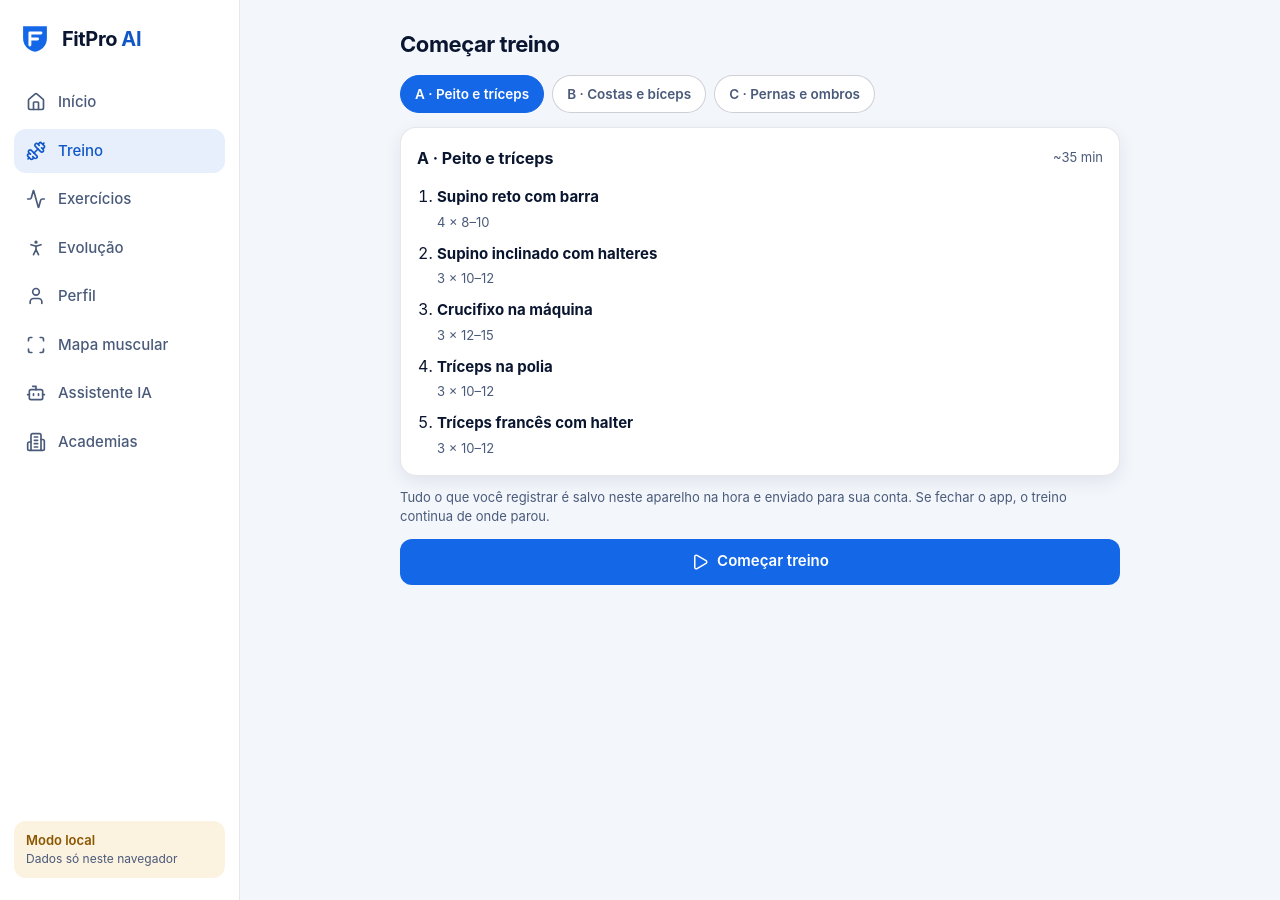
Test: modo treino › encerrar sem séries descarta o treino
The width and height of the screenshot is (1280, 900).
Click the button "Começar treino".
click(760, 562)  # box left=400, top=538, right=1120, bottom=584
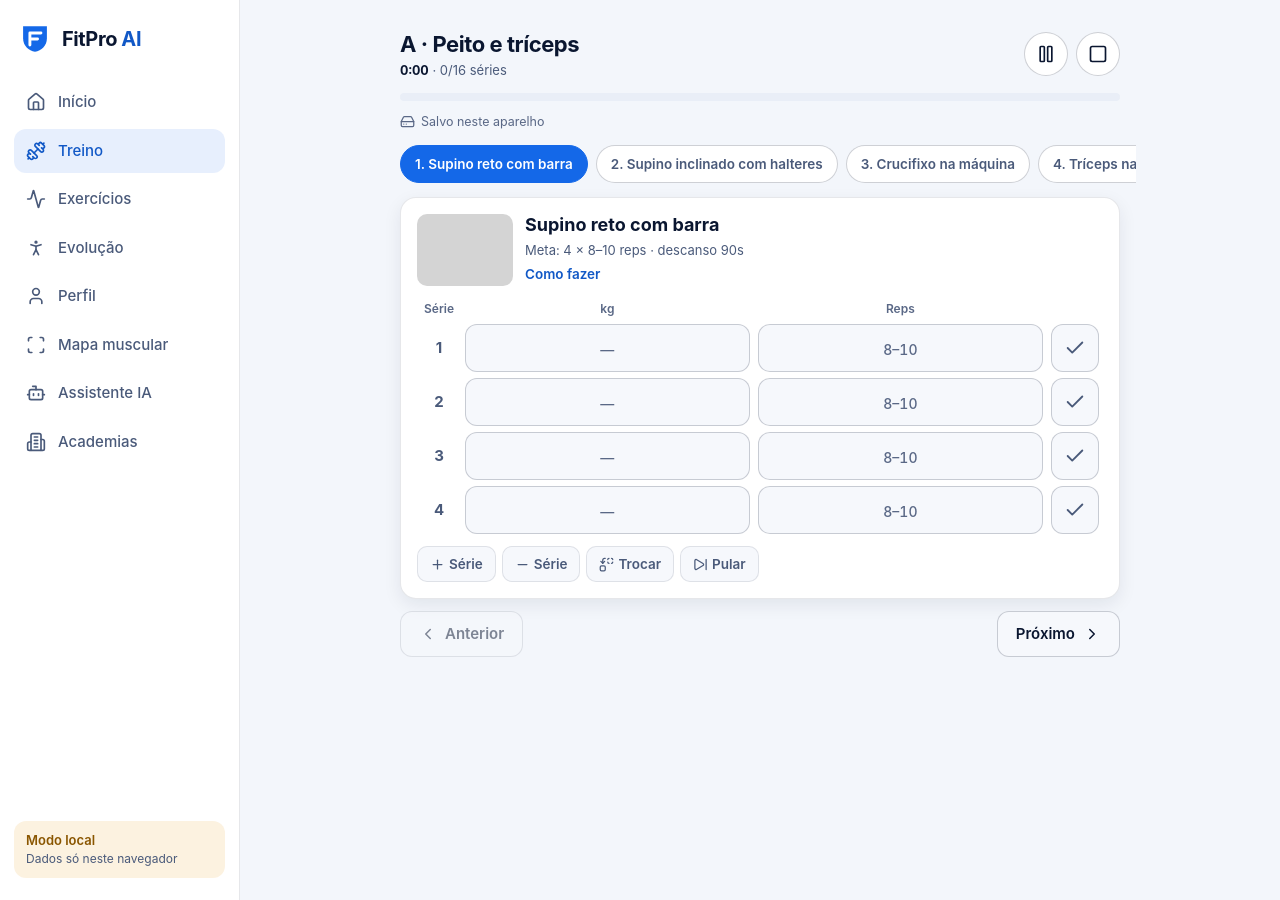
Click the button named "Encerrar treino".
click(1098, 54)  # box left=1076, top=32, right=1120, bottom=76
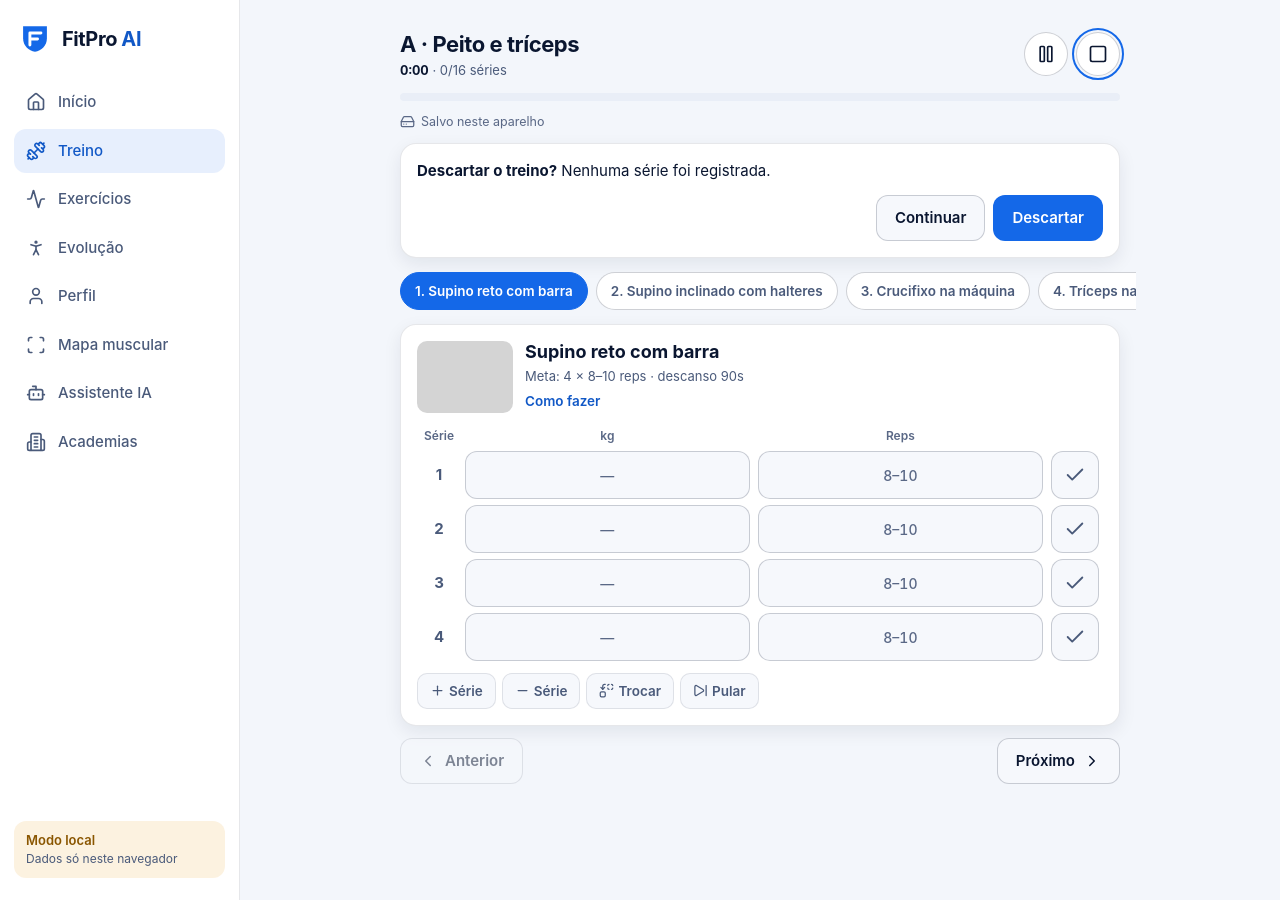
Expected: the text "Descartar o treino?" is shown, left=417, top=161, right=557, bottom=180
Click the button "Descartar".
click(1048, 218)  # box left=993, top=195, right=1103, bottom=241
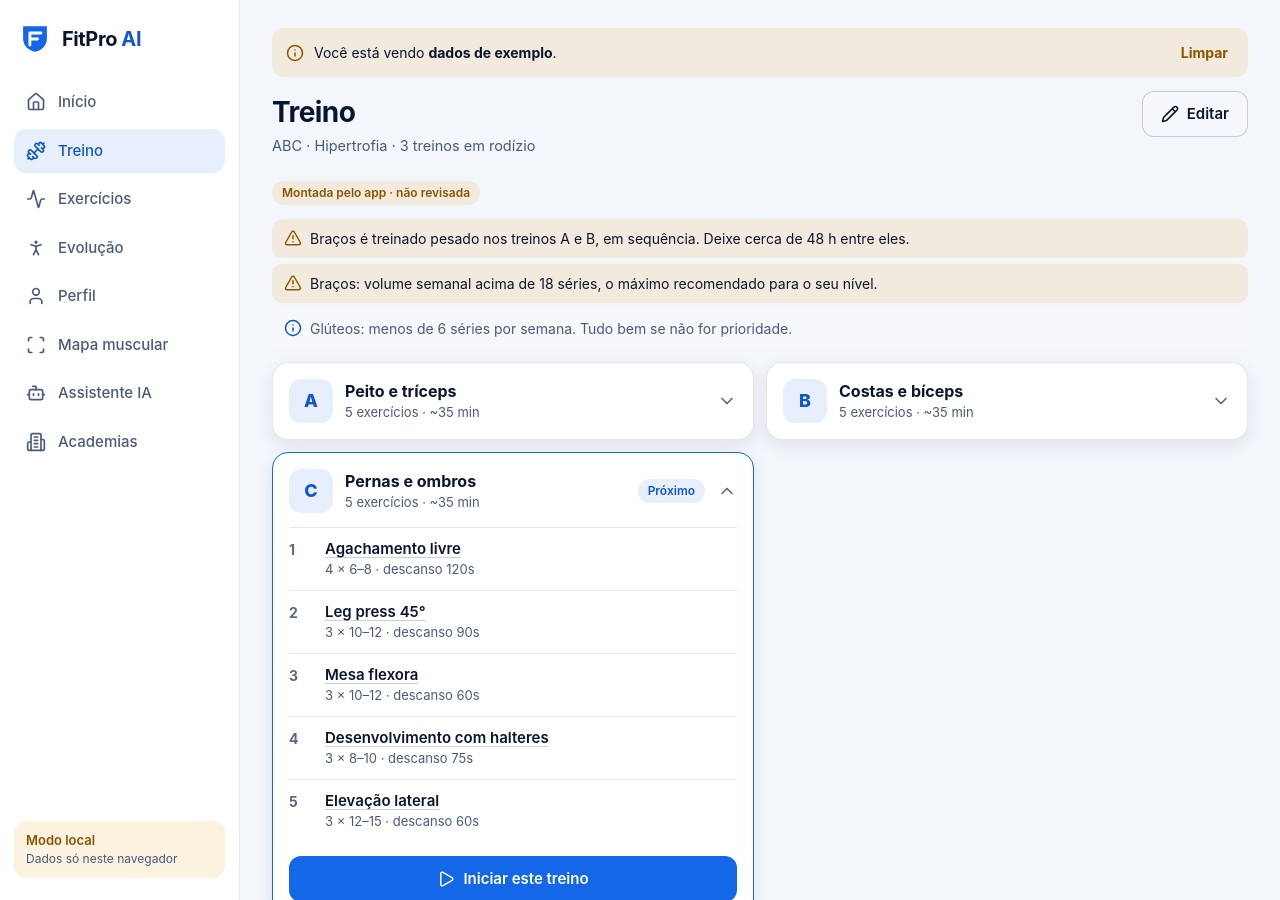
Expected: the heading "Treino" is shown, left=272, top=95, right=355, bottom=129
